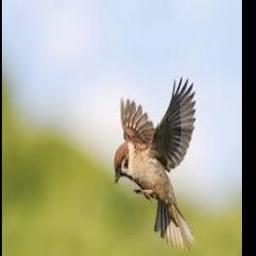Sparrow: (113, 77, 195, 251)
